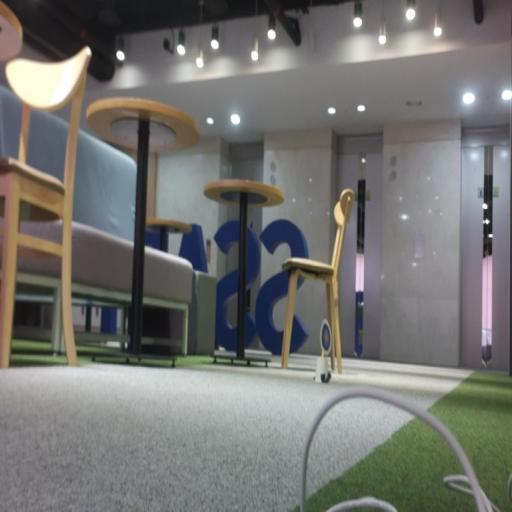target: (320, 319, 332, 354)
